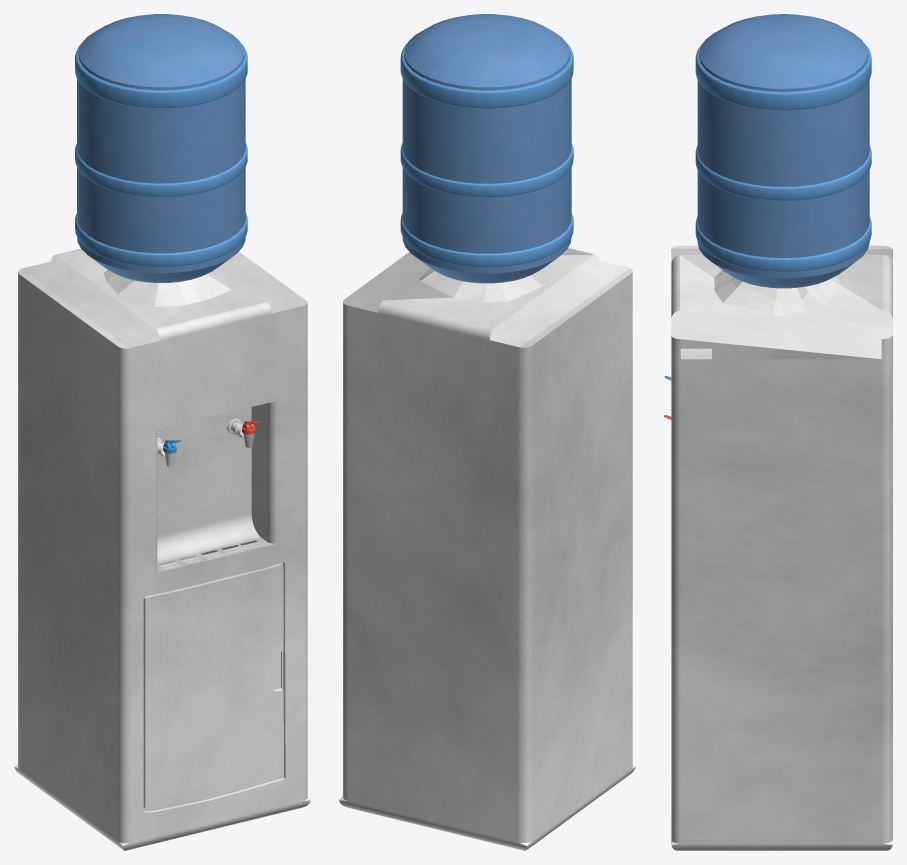
Rendered from water_dispenser.glb.
3 views of the same model, side by side, from view 1: azimuth 30°, elevation 25°; view 2: azimuth 150°, elevation 25°; view 3: azimuth 270°, elevation 25° (orthographic).
Parts seen in each view (by area): view 1: Cube.002; view 2: Cube.002; view 3: Cube.002.
Boxes of the visible parts, bbox=[...] form: Cube.002: bbox=[14, 14, 310, 850]; Cube.002: bbox=[339, 14, 635, 850]; Cube.002: bbox=[664, 14, 892, 850].
Bounding box in the file's own units: 1.26 × 4.88 × 1.3.
Materials: 8 (8 with a texture image).
